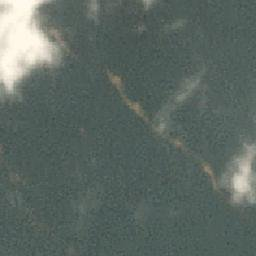cloud: (1, 1, 69, 101), (223, 137, 255, 212)
debris: (105, 67, 125, 96), (201, 160, 216, 196), (128, 95, 144, 124), (52, 28, 64, 45), (171, 138, 185, 152)
